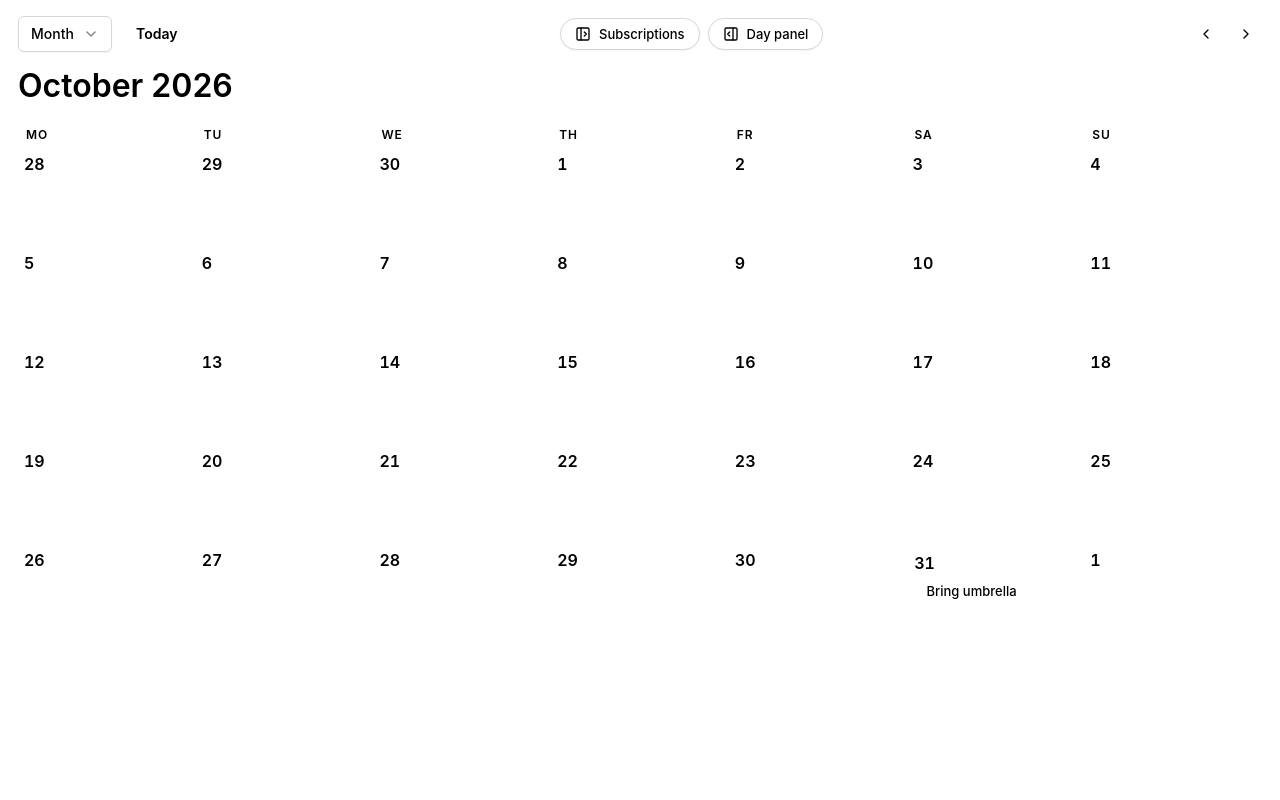
Test: CalendarPage › peeks at a day's notes when its folded cell is hovered
The width and height of the screenshot is (1280, 800).
Hover over the button with class "is-today" at (995, 595), box top-left (907, 545), bottom-right (1084, 644)
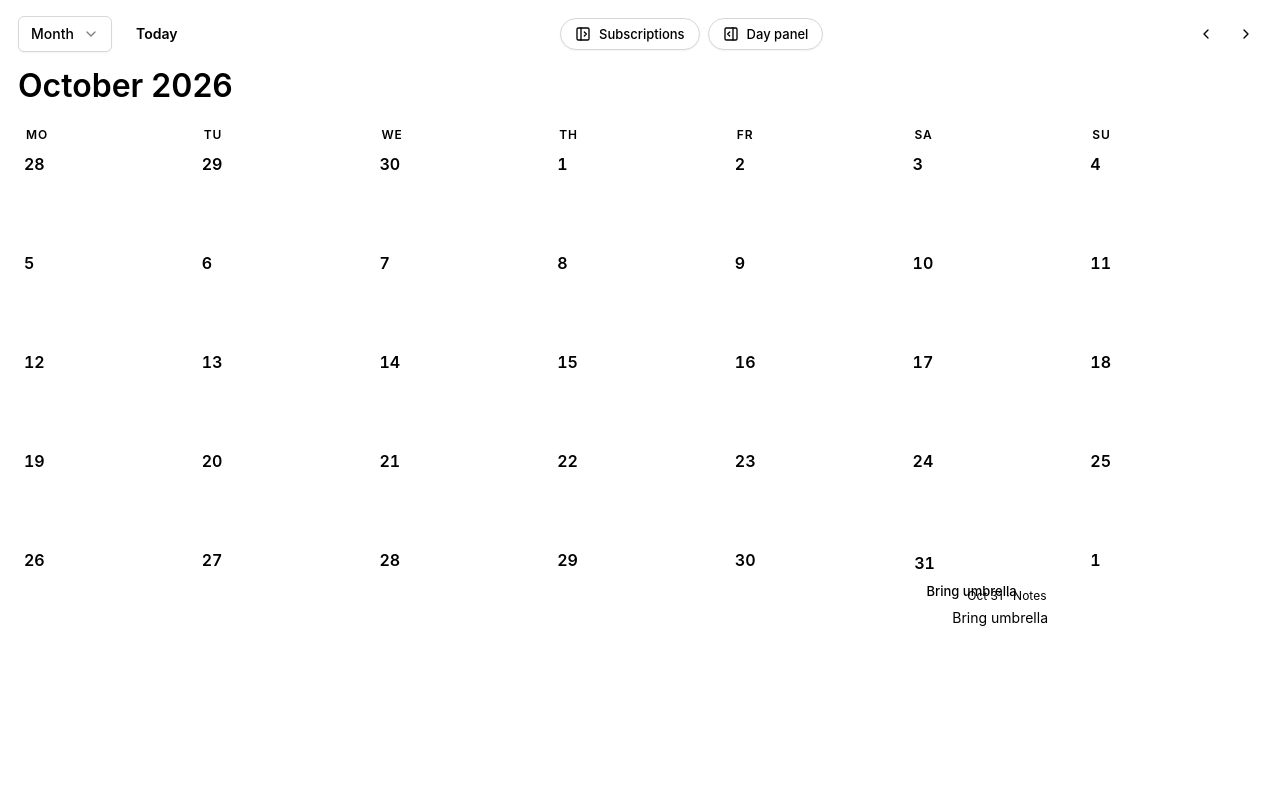
Now the tooltip shows "Bring umbrella", box top-left (952, 610), bottom-right (1048, 626)
Move the pointer off the button with class "is-today", box top-left (907, 545), bottom-right (1084, 644)
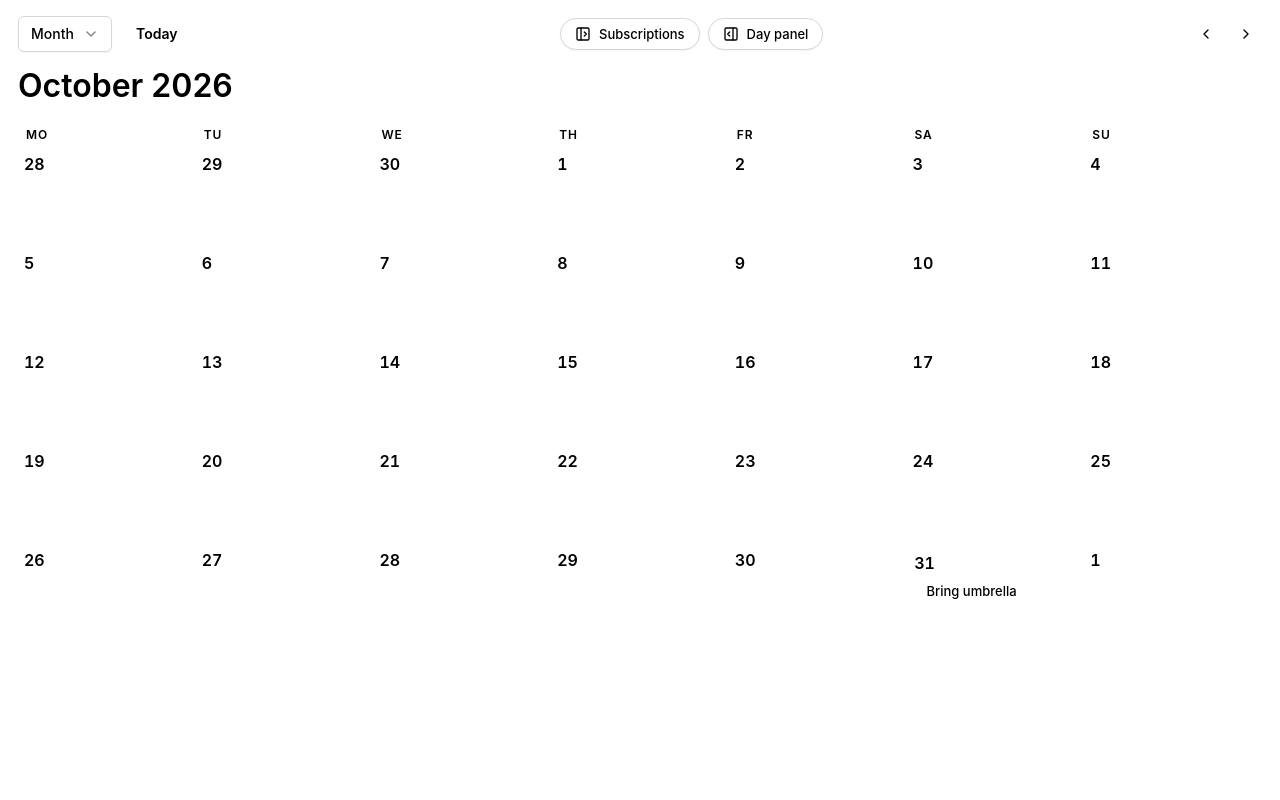
Now the tooltip "Oct 31 · Notes Bring umbrella" is gone
